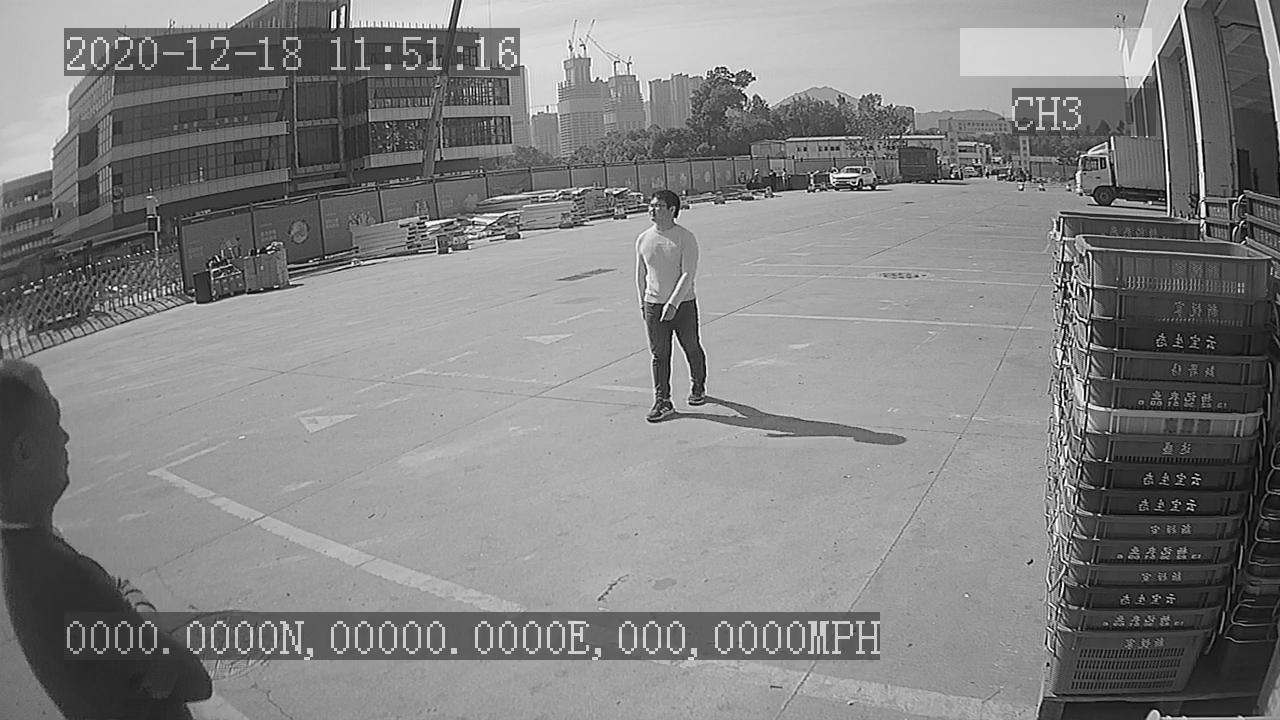person: (633, 188, 711, 426)
